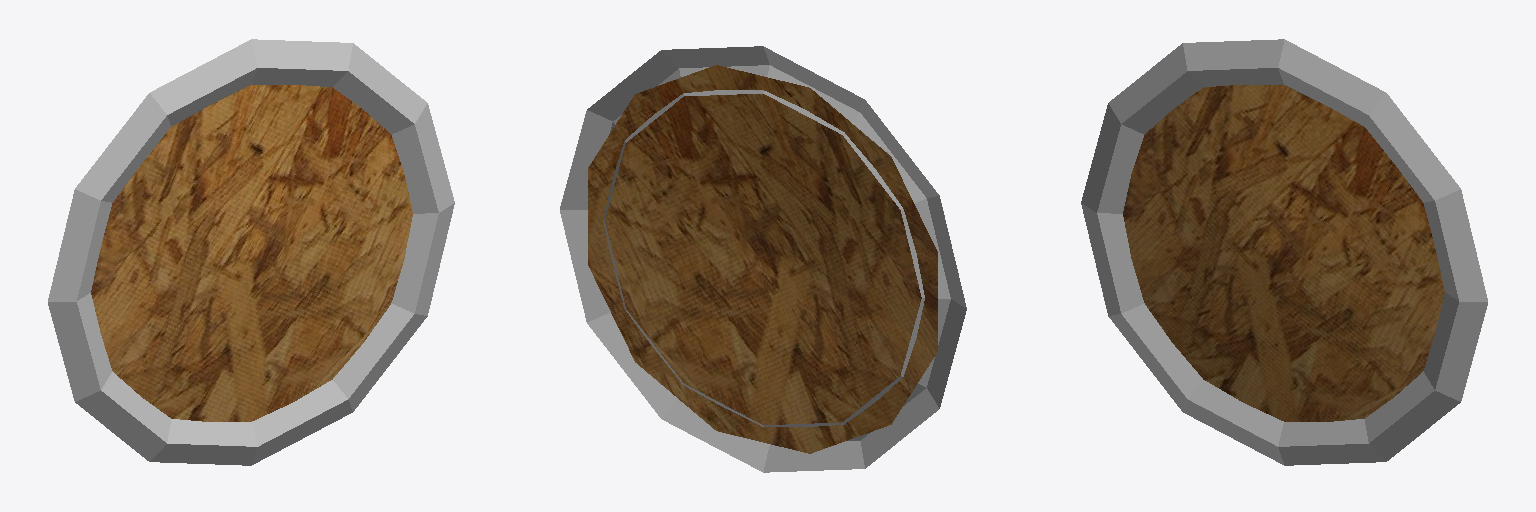
3 views of the same model, side by side, from view 1: azimuth 30°, elevation 25°; view 2: azimuth 150°, elevation 25°; view 3: azimuth 330°, elevation 25° (orthographic).
Visible parts, largest first — view 1: Cylinder, Torus_Torus.001; view 2: Cylinder, Torus_Torus.001; view 3: Cylinder, Torus_Torus.001.
Part boxes in pixels (left/top/right/bottom): Cylinder: left=91, top=85, right=412, bottom=421; Torus_Torus.001: left=48, top=39, right=454, bottom=465; Cylinder: left=588, top=65, right=937, bottom=453; Torus_Torus.001: left=560, top=46, right=966, bottom=472; Cylinder: left=1123, top=85, right=1444, bottom=421; Torus_Torus.001: left=1081, top=39, right=1487, bottom=465.
Size of the model in its own units: 1.22 by 1.22 by 0.0486.
Materials: 2 (1 with a texture image).